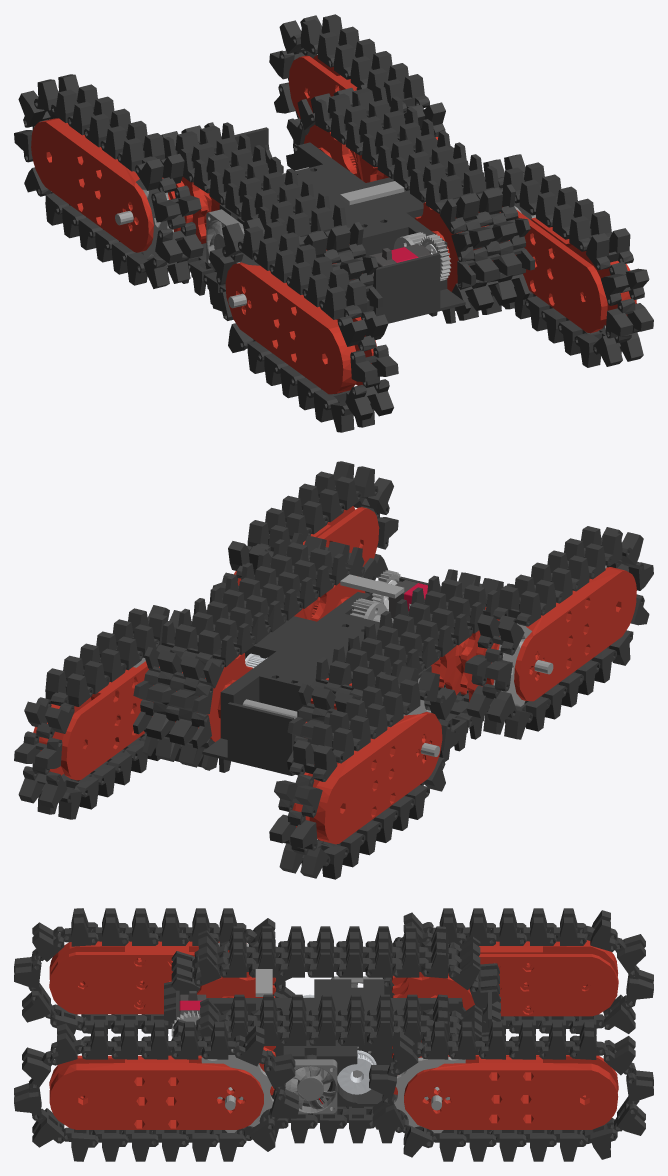
File: robo.glb
3 renders of one model, top to bottom at view 1: azimuth 30°, elevation 25°; view 2: azimuth 150°, elevation 25°; view 3: azimuth 270°, elevation 25°, orthographic. The views are drawn at different scales.
Parts seen in each view (by area): view 1: esteira_esq_m0, flipper_fd_m0, flipper_td_m0, esteira_dir_m0, flipper_fe_m0, chassi_m2, flipper_td_m1, flipper_fd_m1, flipper_te_m0, flipper_fe_m1, flipper_te_m1, chassi_m5 (+2 smaller); view 2: esteira_esq_m0, flipper_fd_m0, flipper_td_m0, esteira_dir_m0, flipper_te_m0, chassi_m2, flipper_fd_m1, flipper_td_m1, flipper_fe_m0, flipper_te_m1, flipper_fe_m1, chassi_m5; view 3: flipper_fe_m0, flipper_te_m0, esteira_dir_m0, flipper_fe_m1, flipper_te_m1, esteira_esq_m0, flipper_td_m1, flipper_fd_m0, flipper_td_m0, flipper_fd_m1, chassi_m2, chassi_m3 (+4 smaller).
Part boxes in pixels (bbox=[...]): esteira_esq_m0: bbox=[286, 84, 534, 323]; flipper_fd_m0: bbox=[209, 218, 398, 432]; flipper_td_m0: bbox=[14, 74, 203, 288]; esteira_dir_m0: bbox=[161, 122, 382, 311]; flipper_fe_m0: bbox=[483, 154, 653, 367]; chassi_m2: bbox=[219, 127, 465, 323]; flipper_td_m1: bbox=[31, 118, 220, 252]; flipper_fd_m1: bbox=[225, 249, 376, 394]; flipper_te_m0: bbox=[269, 14, 454, 153]; flipper_fe_m1: bbox=[415, 202, 636, 333]; flipper_te_m1: bbox=[288, 55, 438, 182]; chassi_m5: bbox=[115, 167, 451, 308]; esteira_esq_m0: bbox=[133, 532, 377, 772]; flipper_fd_m0: bbox=[464, 526, 653, 739]; flipper_td_m0: bbox=[269, 666, 458, 879]; esteira_dir_m0: bbox=[287, 569, 514, 769]; flipper_te_m0: bbox=[14, 605, 180, 819]; chassi_m2: bbox=[202, 576, 441, 775]; flipper_fd_m1: bbox=[431, 567, 636, 701]; flipper_td_m1: bbox=[292, 678, 442, 844]; flipper_fe_m0: bbox=[212, 461, 398, 598]; flipper_te_m1: bbox=[33, 653, 252, 780]; flipper_fe_m1: bbox=[234, 506, 379, 621]; chassi_m5: bbox=[242, 570, 553, 756]; flipper_fe_m0: bbox=[14, 1021, 298, 1161]; flipper_te_m0: bbox=[369, 1021, 653, 1161]; esteira_dir_m0: bbox=[164, 926, 500, 1023]; flipper_fe_m1: bbox=[49, 1046, 275, 1129]; flipper_te_m1: bbox=[392, 1040, 618, 1129]; esteira_esq_m0: bbox=[168, 994, 489, 1143]; flipper_td_m1: bbox=[392, 940, 618, 1016]; flipper_fd_m0: bbox=[14, 908, 295, 1034]; flipper_td_m0: bbox=[383, 908, 653, 1034]; flipper_fd_m1: bbox=[49, 941, 275, 1014]; chassi_m2: bbox=[176, 979, 491, 1106]; chassi_m3: bbox=[285, 976, 383, 1113].
Bounding box in the file's own units: 1.05 × 0.4331 × 2.
